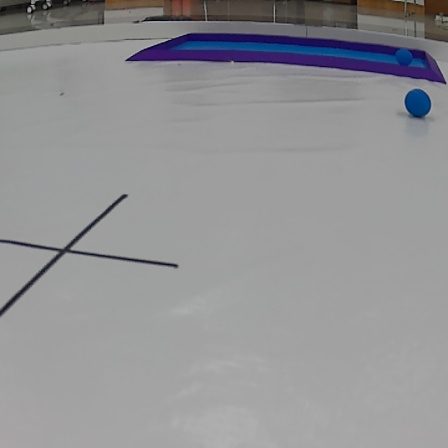blue: (401, 88, 433, 120), (393, 48, 417, 66)
blue_aim: (125, 32, 447, 83)
